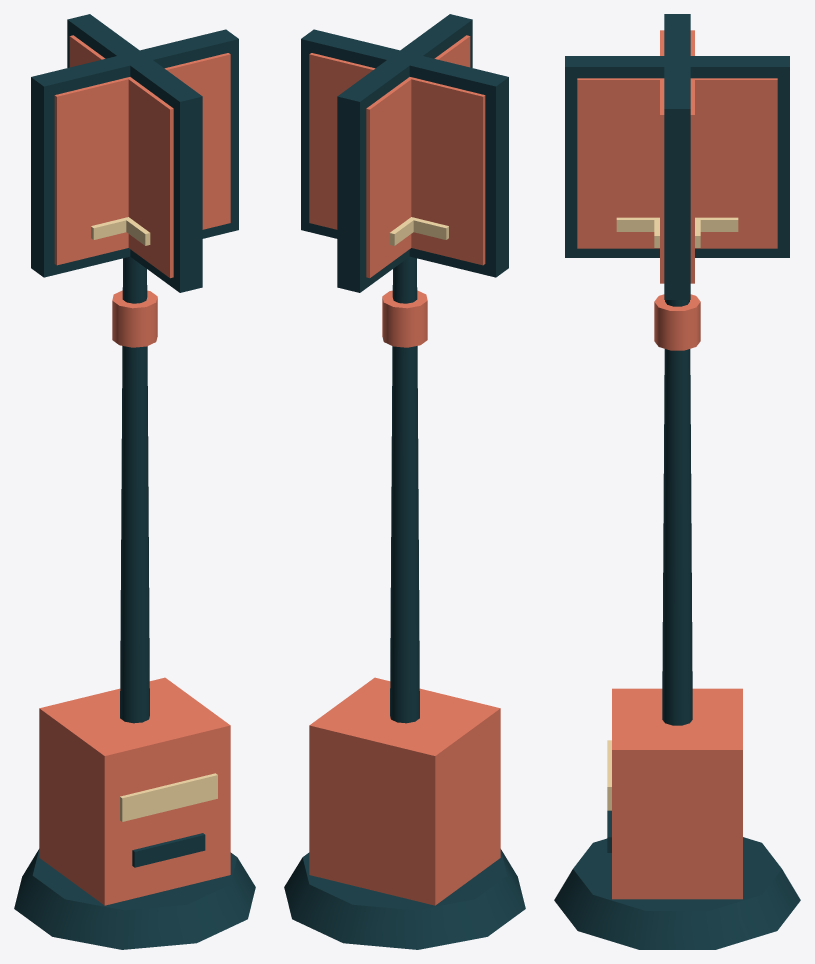
File: parcel-tower-1.glb
3 views of the same model, side by side, from view 1: azimuth 30°, elevation 25°; view 2: azimuth 150°, elevation 25°; view 3: azimuth 270°, elevation 25° (orthographic).
Size of the model in its own units: 1.62 by 6.37 by 1.7.
